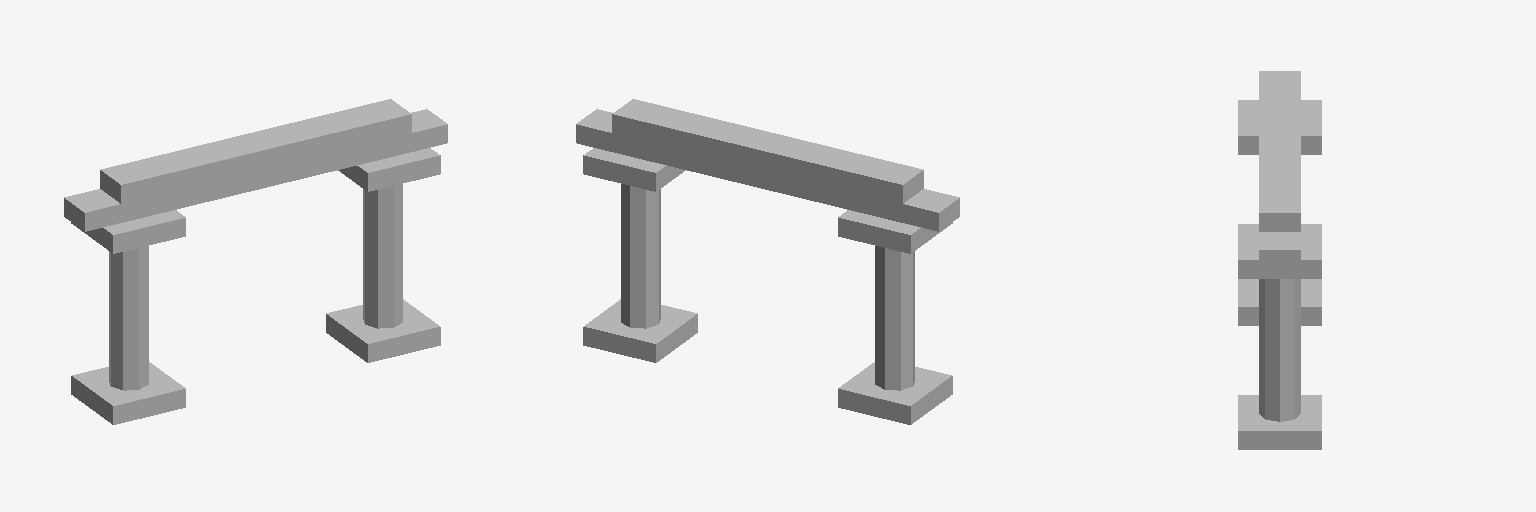
The model's file is gateway.obj.
3 views of the same model, side by side, from view 1: azimuth 30°, elevation 25°; view 2: azimuth 150°, elevation 25°; view 3: azimuth 270°, elevation 25° (orthographic).
Visible parts, largest first — view 1: cylinder1; view 2: cylinder1; view 3: cylinder1.
Part boxes in pixels (x1,y1,x2,y2): cylinder1: (64, 99, 447, 424); cylinder1: (576, 99, 959, 424); cylinder1: (1238, 71, 1321, 449).
Size of the model in its own units: 20 by 12 by 4.